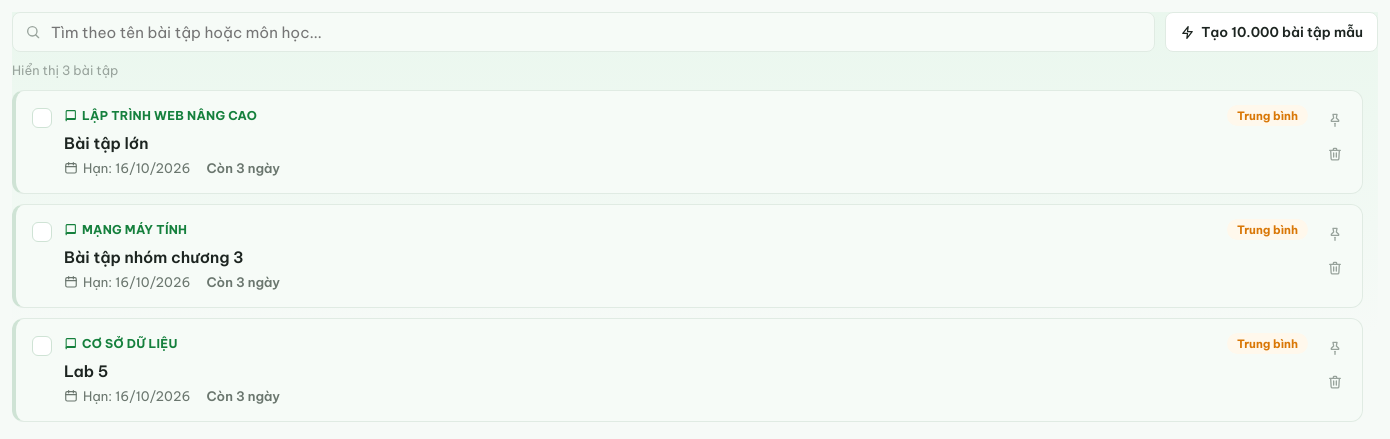
Test: AssignmentList › đánh dấu hoàn thành và xoá cập nhật Redux store
Click the checkbox named "Đánh dấu hoàn thành Lab 5" at (42, 346), box [32,336,52,356]
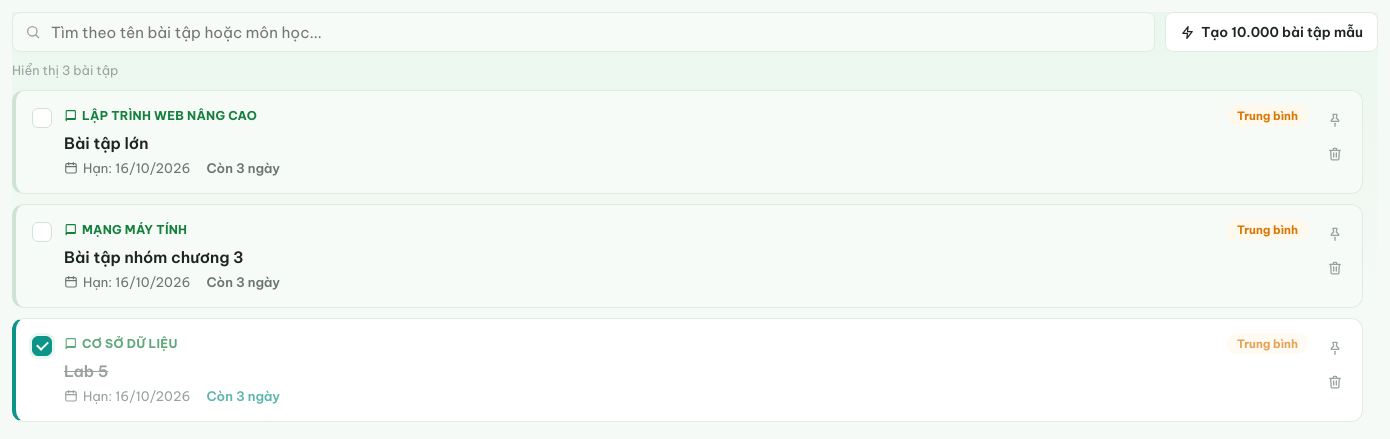
Result: the checkbox named "Đánh dấu hoàn thành Lab 5" is checked at [32,336,52,356]
Click the button named "Xoá Bài tập lớn" at (1335, 154), box [1320,139,1350,169]
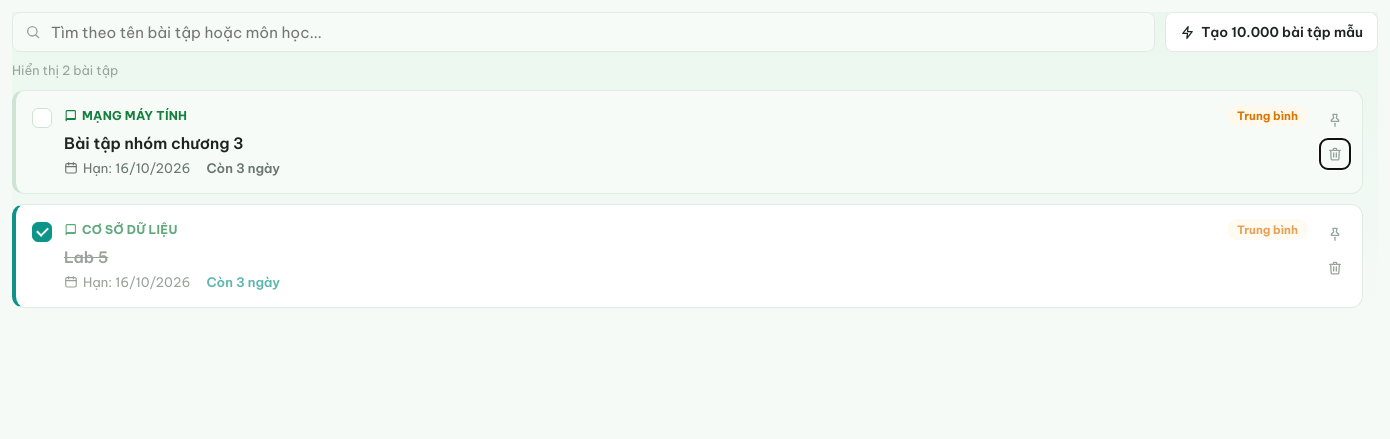
Result: the text "Bài tập lớn" is gone
